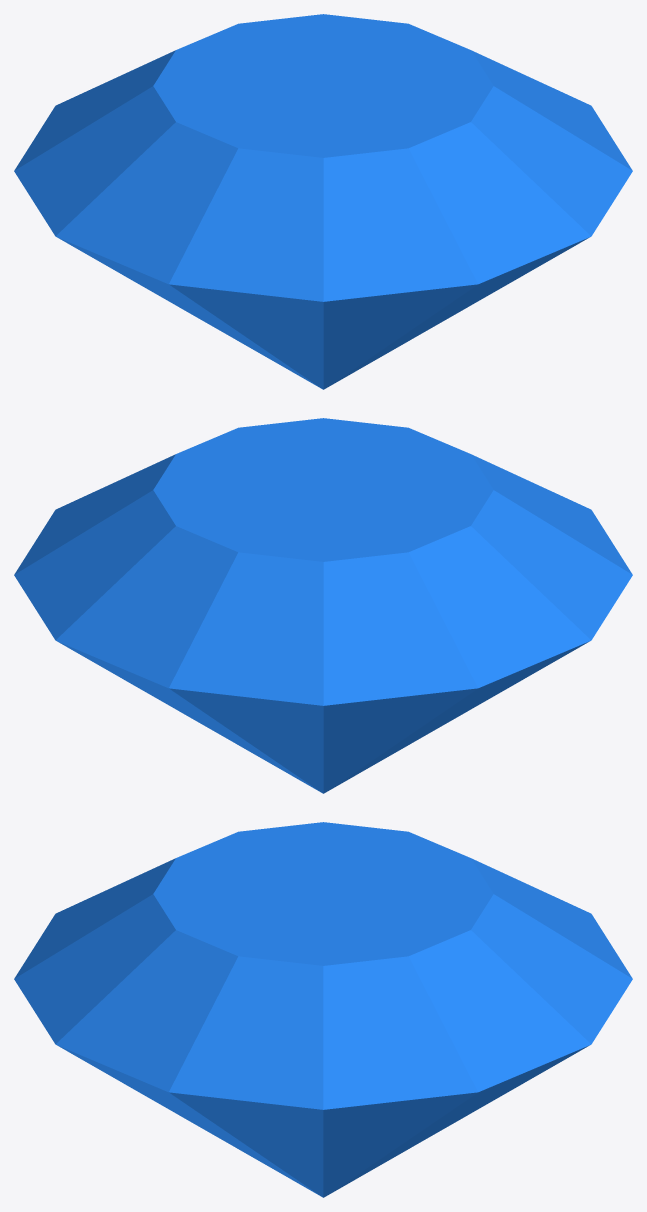
Rendered from blue-sapphire.glb.
3 renders of one model, top to bottom at view 1: azimuth 30°, elevation 25°; view 2: azimuth 150°, elevation 25°; view 3: azimuth 270°, elevation 25°, orthographic.
Visible parts, largest first — view 1: 藍寶石; view 2: 藍寶石; view 3: 藍寶石.
Part boxes in pixels (x1,y1,x2,y2): 藍寶石: (14,14,632,389); 藍寶石: (14,418,632,793); 藍寶石: (14,822,632,1197).
Bounding box in the file's own units: 0.24 × 0.13 × 0.24.
